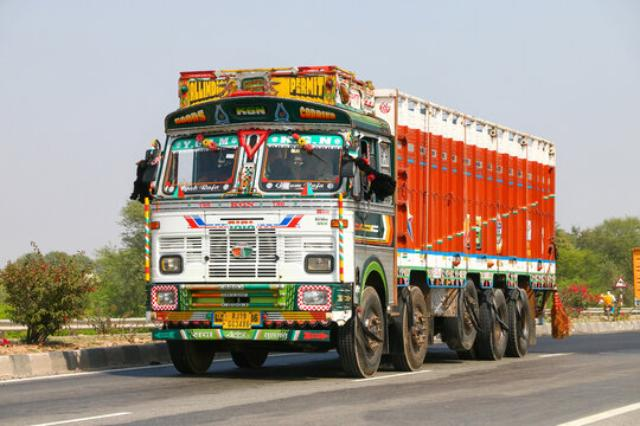truck: (127, 65, 581, 376)
